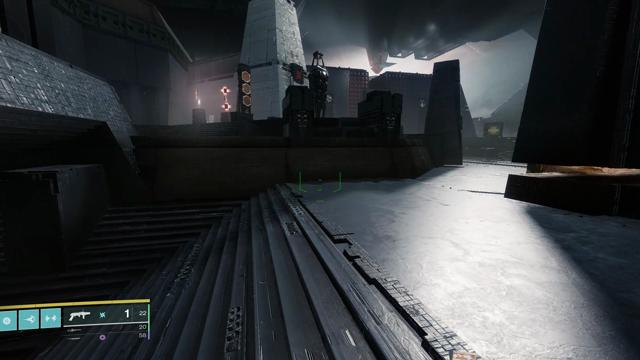brain: (326, 94, 333, 104)
drink: (419, 100, 426, 108)
stop: (294, 69, 303, 82)
